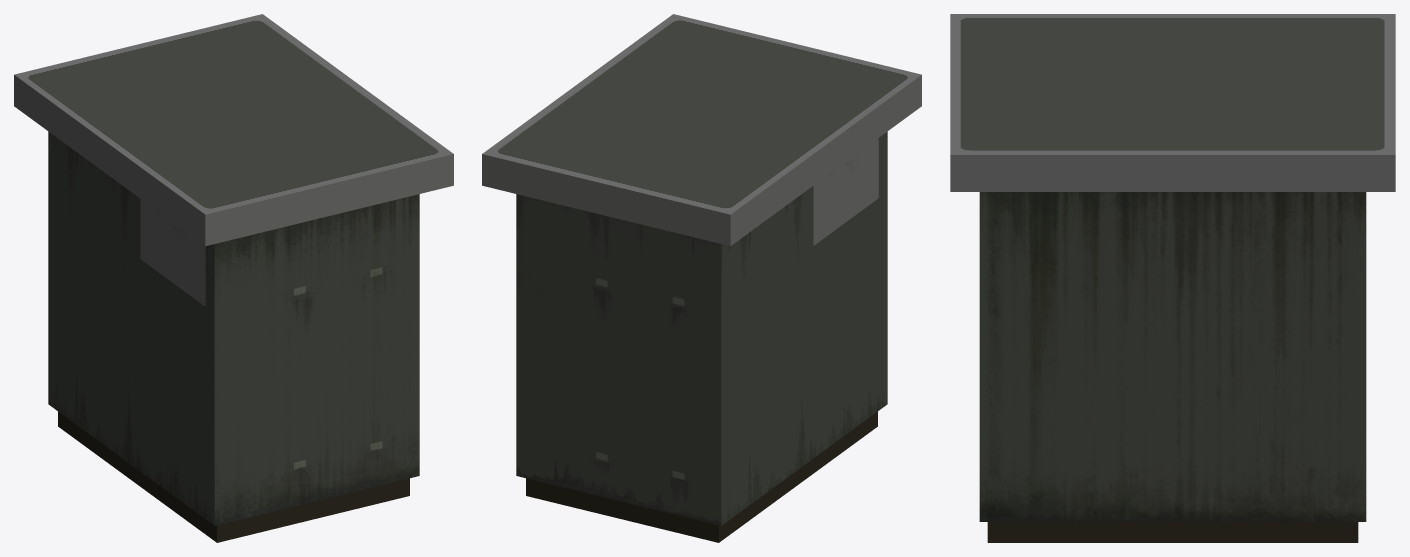
Rendered from rooftop_ventilation_unit.glb.
3 views of the same model, side by side, from view 1: azimuth 30°, elevation 25°; view 2: azimuth 150°, elevation 25°; view 3: azimuth 270°, elevation 25° (orthographic). The views are drawn at different scales.
Visible parts, largest first — view 1: Object_2; view 2: Object_2; view 3: Object_2.
Part boxes in pixels (<box>): Object_2: <box>14,14,453,542</box>; Object_2: <box>482,14,921,542</box>; Object_2: <box>950,14,1395,542</box>.
Size of the model in its own units: 3 by 4 by 4.
1 material, 1 textured.
